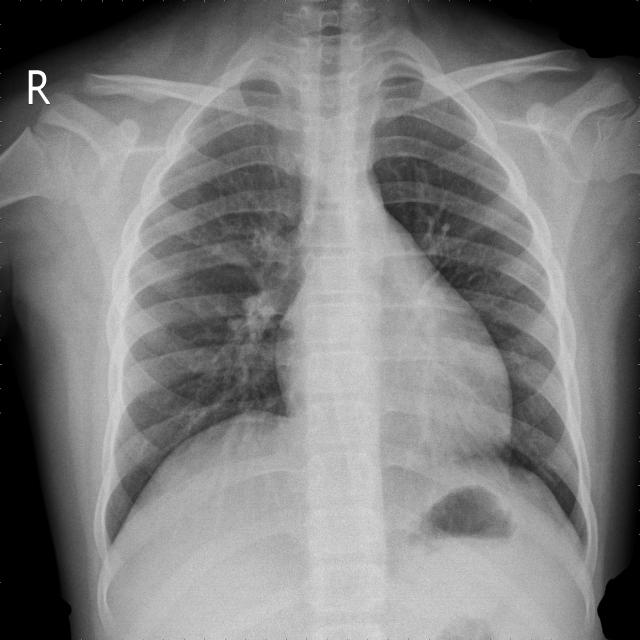no-pneumonia: (371, 64, 596, 549), (101, 57, 307, 545)
